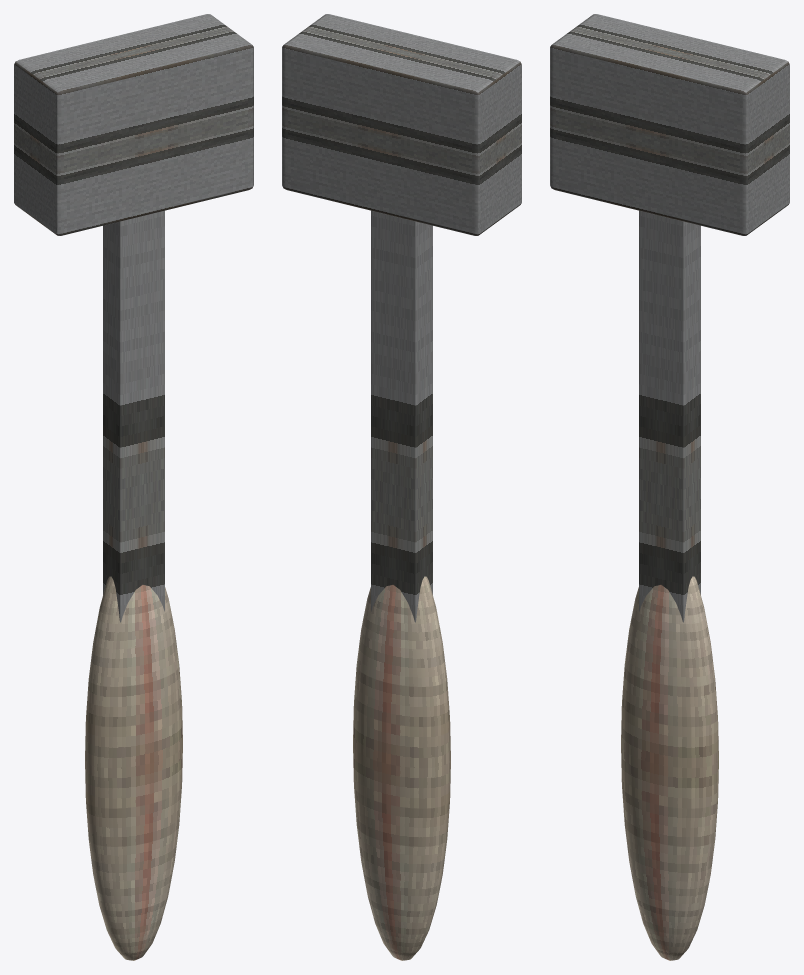
The model's file is mop.glb.
The picture shows the model from 3 angles, left to right: view 1: azimuth 30°, elevation 25°; view 2: azimuth 150°, elevation 25°; view 3: azimuth 330°, elevation 25°; orthographic projection.
Parts seen in each view (by area): view 1: head, grip, shaft; view 2: head, grip, shaft; view 3: head, grip, shaft.
Part boxes in pixels (left/top/right/bottom): head: left=14, top=14, right=253, bottom=235; grip: left=85, top=576, right=182, bottom=960; shaft: left=103, top=210, right=164, bottom=622; head: left=282, top=14, right=521, bottom=235; grip: left=353, top=576, right=450, bottom=960; shaft: left=371, top=210, right=432, bottom=622; head: left=550, top=14, right=789, bottom=235; grip: left=621, top=576, right=718, bottom=960; shaft: left=639, top=210, right=700, bottom=622.
Bounding box in the file's own units: 0.31 × 1.36 × 0.12.
Materials: 2 (2 with a texture image).
